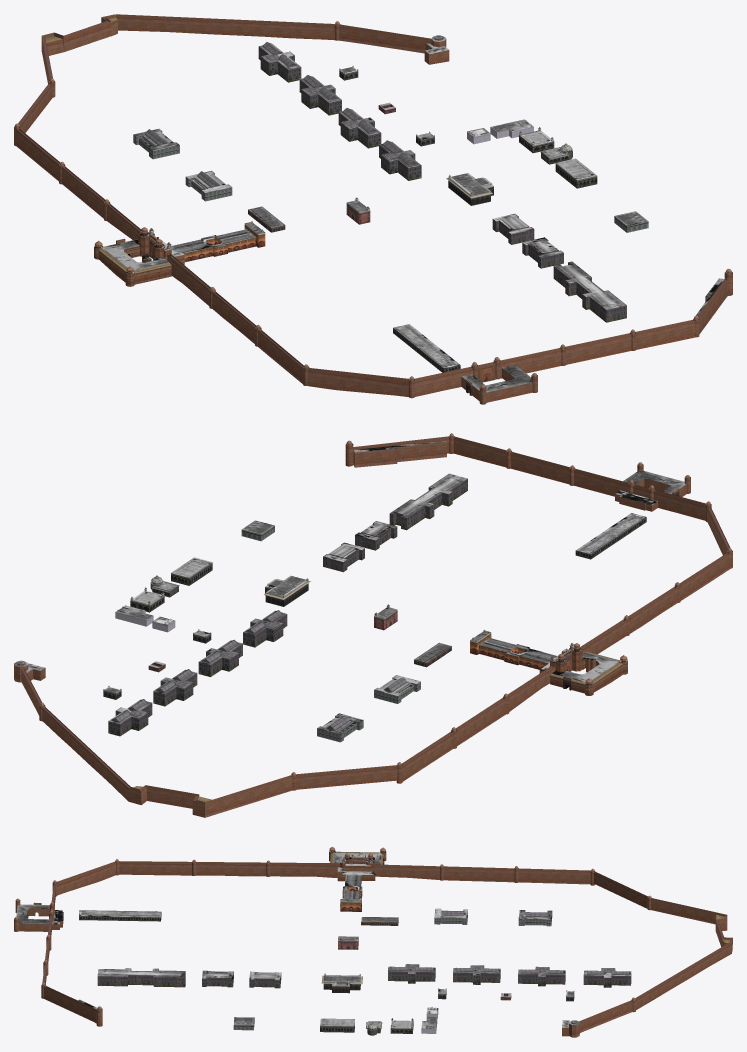
File: Red_Fort_Delhi_India.fbx
3 renders of one model, top to bottom at view 1: azimuth 30°, elevation 25°; view 2: azimuth 150°, elevation 25°; view 3: azimuth 270°, elevation 25°, orthographic. The views are drawn at different scales.
Visible parts, largest first — view 1: model1; view 2: model1; view 3: model1.
Part boxes in pixels (left/top/right/bottom): model1: left=14, top=14, right=732, bottom=404; model1: left=14, top=433, right=732, bottom=817; model1: left=14, top=846, right=732, bottom=1037.
Size of the model in its own units: 57103 by 3956 by 98916.
